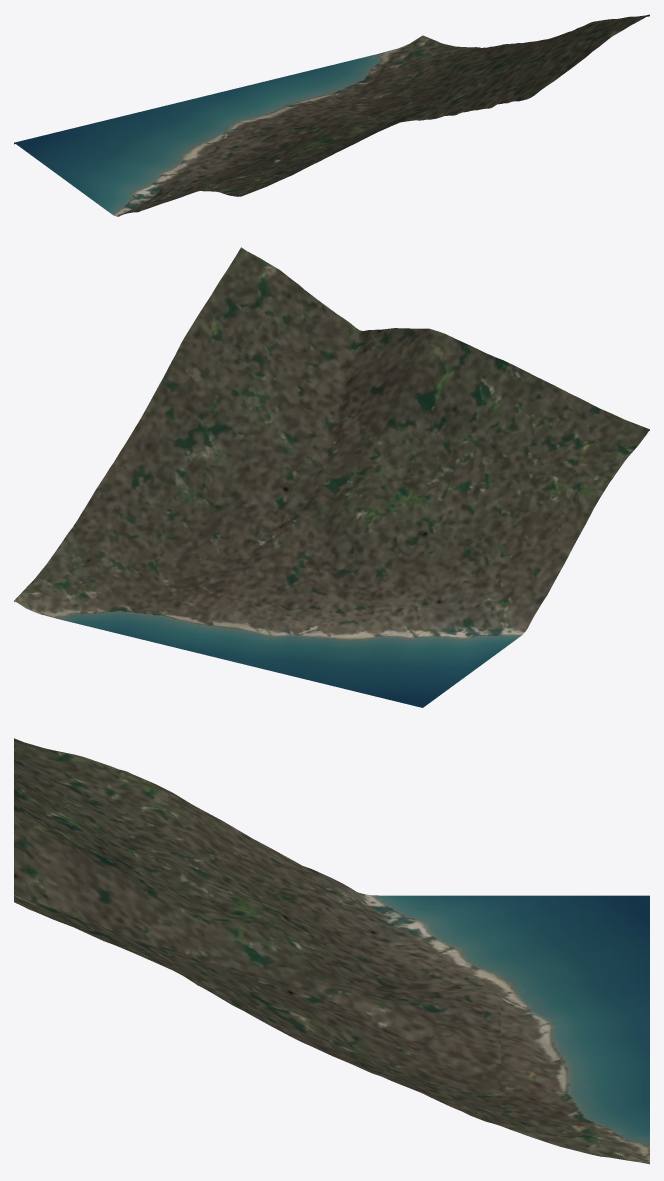
3 views of the same model, one above another, from view 1: azimuth 30°, elevation 25°; view 2: azimuth 150°, elevation 25°; view 3: azimuth 270°, elevation 25° (orthographic). The views are drawn at different scales.
Size of the model in its own units: 250 by 115 by 241.
1 material, 1 textured.
